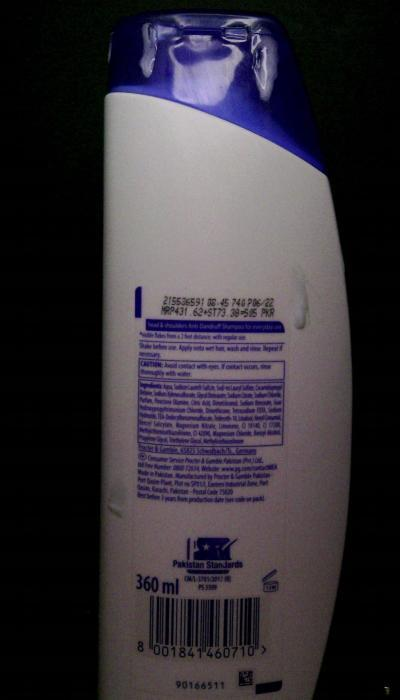pob_unacc: (228, 16, 288, 109), (285, 266, 320, 336), (133, 20, 169, 88), (101, 476, 132, 535)
